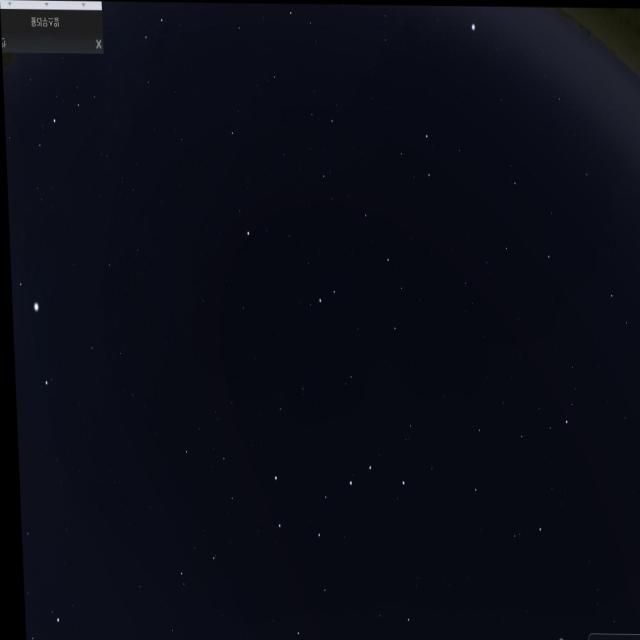ursa_major: (265, 429, 420, 556)
